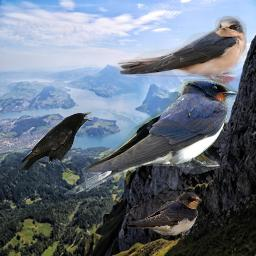Crow: (18, 111, 93, 175)
Swallow: (64, 79, 238, 200), (117, 15, 247, 86), (127, 191, 202, 239)
